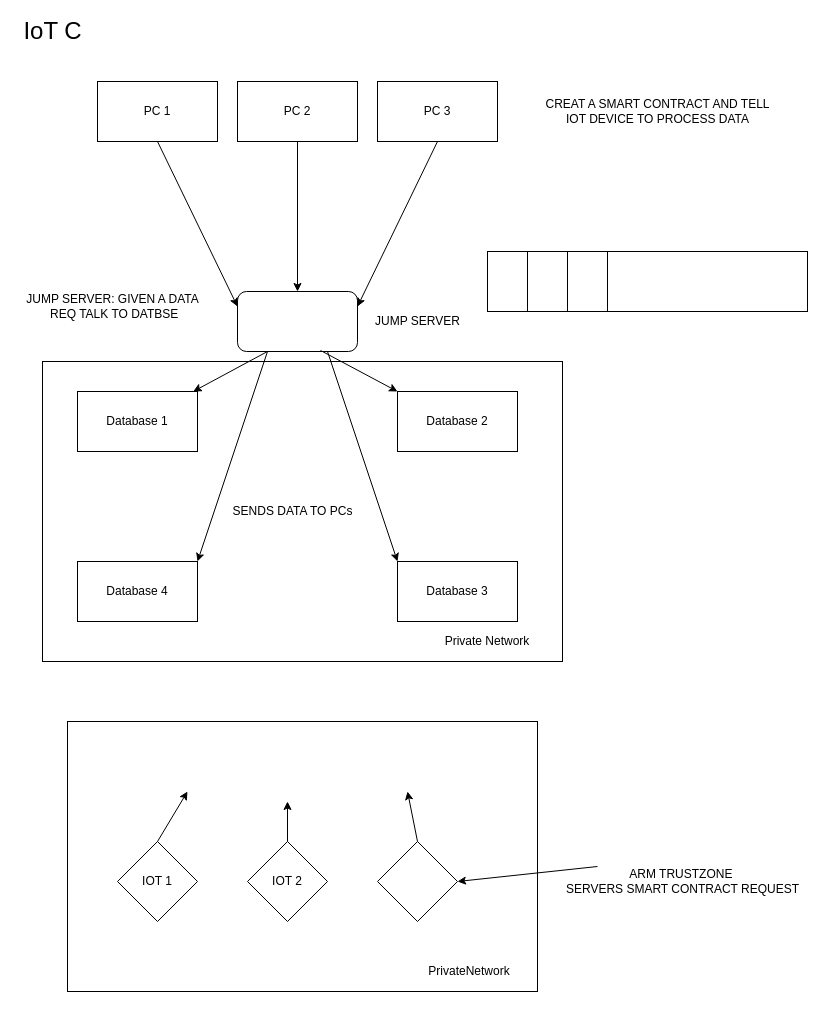
The diagram is 825 pixels wide and 1009 high, and some of its shapes have lost their labels. Here are the shapes that lost their labels. From the top down, the centre of each, then its label:
[297,321]: Block Hash Database
[417,881]: IOT 3
